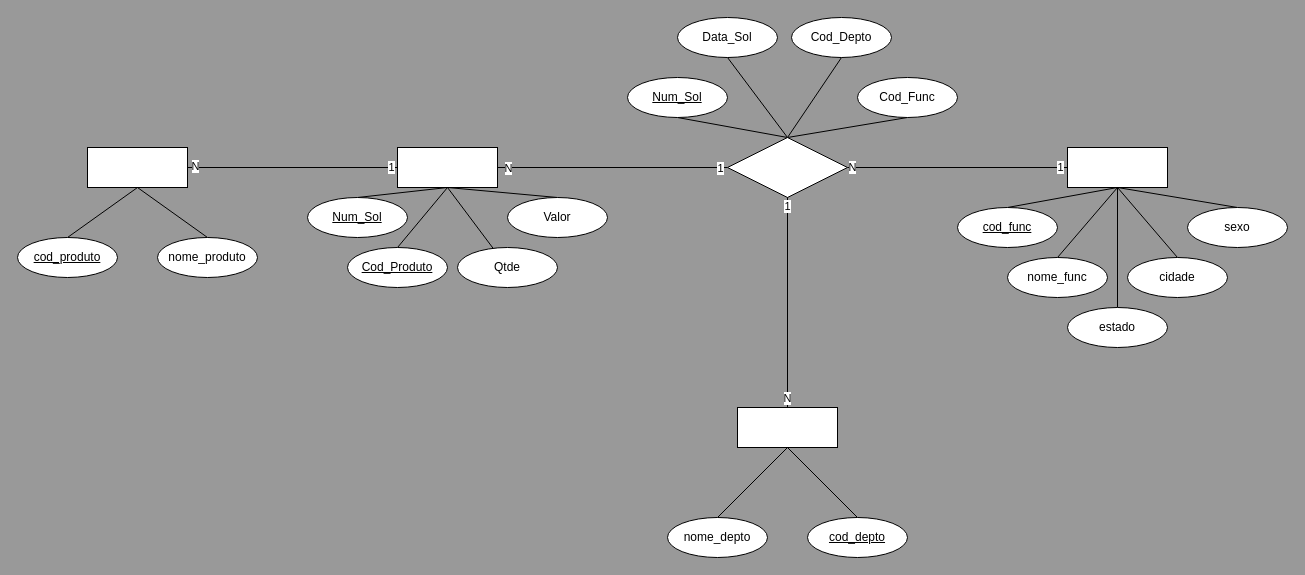
The diagram is 1305 pixels wide and 575 high, and some of its shapes have lost their labels. The centre of each missing label's shape, as x and y in pixels:
"departamentos" belongs at pixel 787 427.
"funcionarios" belongs at pixel 1117 167.
"Itens_Solicitacao" belongs at pixel 447 167.
"produtos" belongs at pixel 137 167.
"solicitações" belongs at pixel 787 167.
